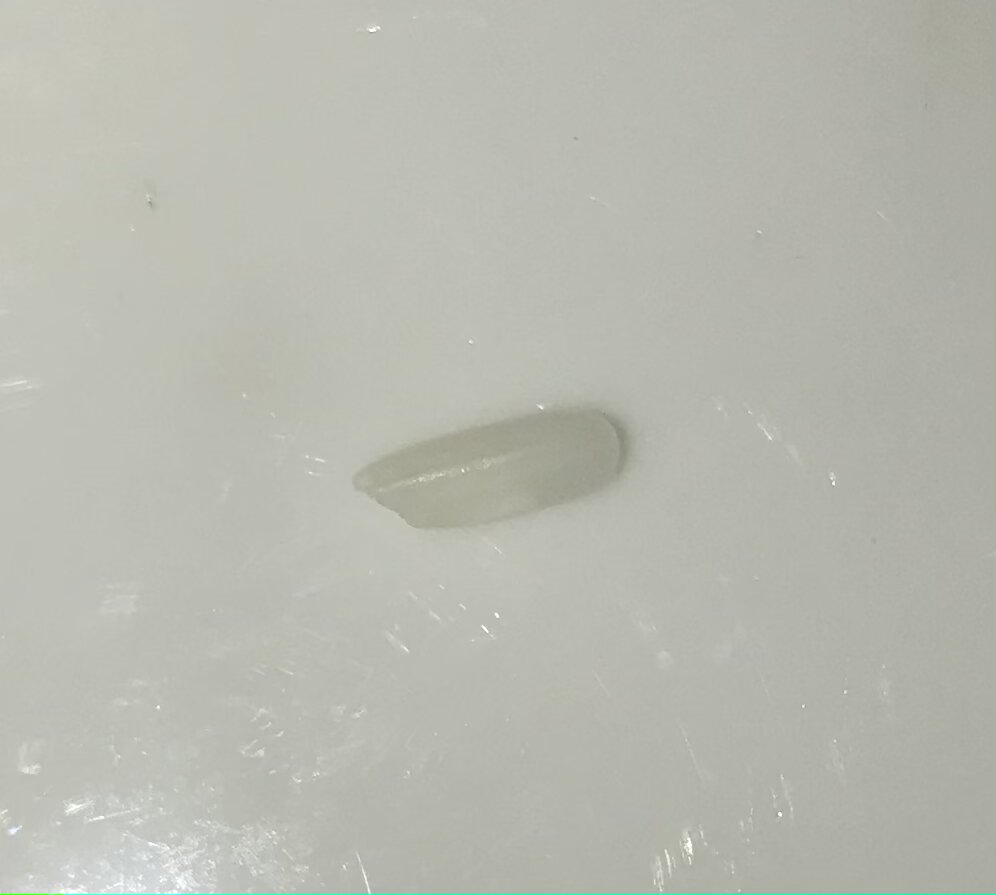Gao Lai Sua: (351, 401, 629, 533)
